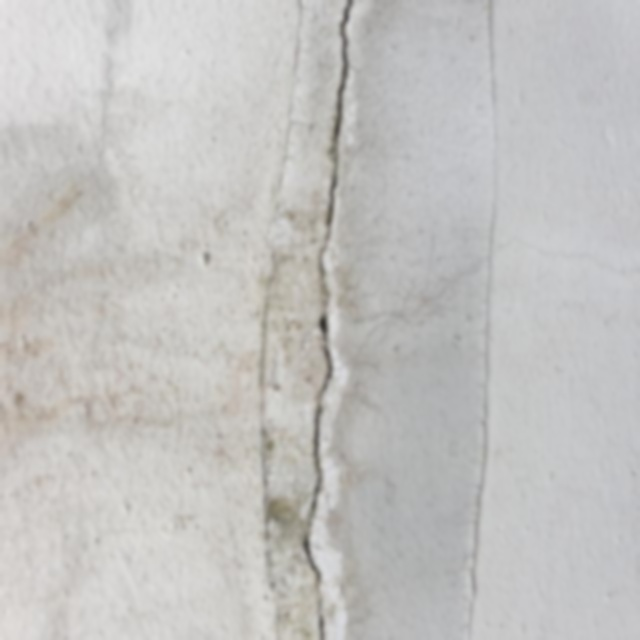SurfaceCrack: (224, 1, 381, 640)
